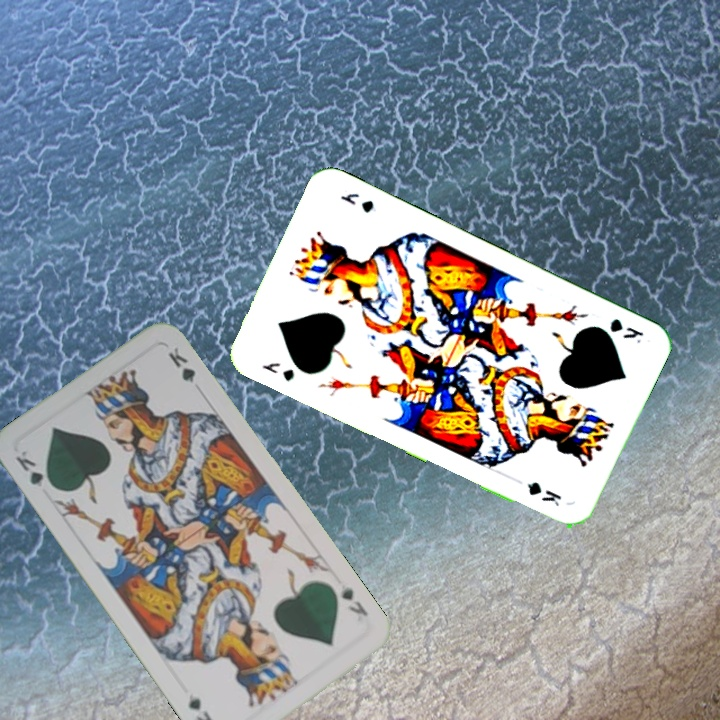GK: (11, 446, 58, 493), (336, 580, 371, 619), (605, 314, 647, 346), (258, 358, 297, 384)
